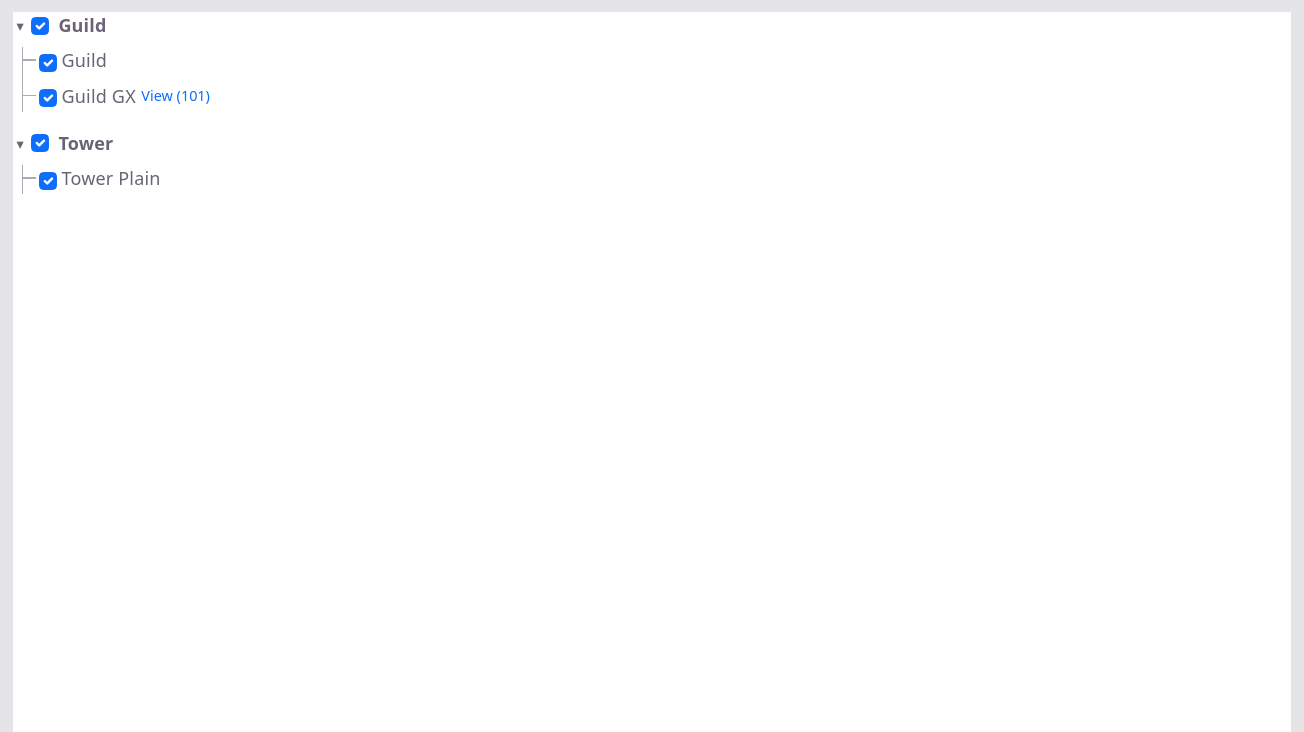
Test: CategoryFilter › itemsByCategory › shows a plain "N more" note with no table link, even past the cap
Click the button "View (101)". click: (176, 96)
box: [140,84,211,108]
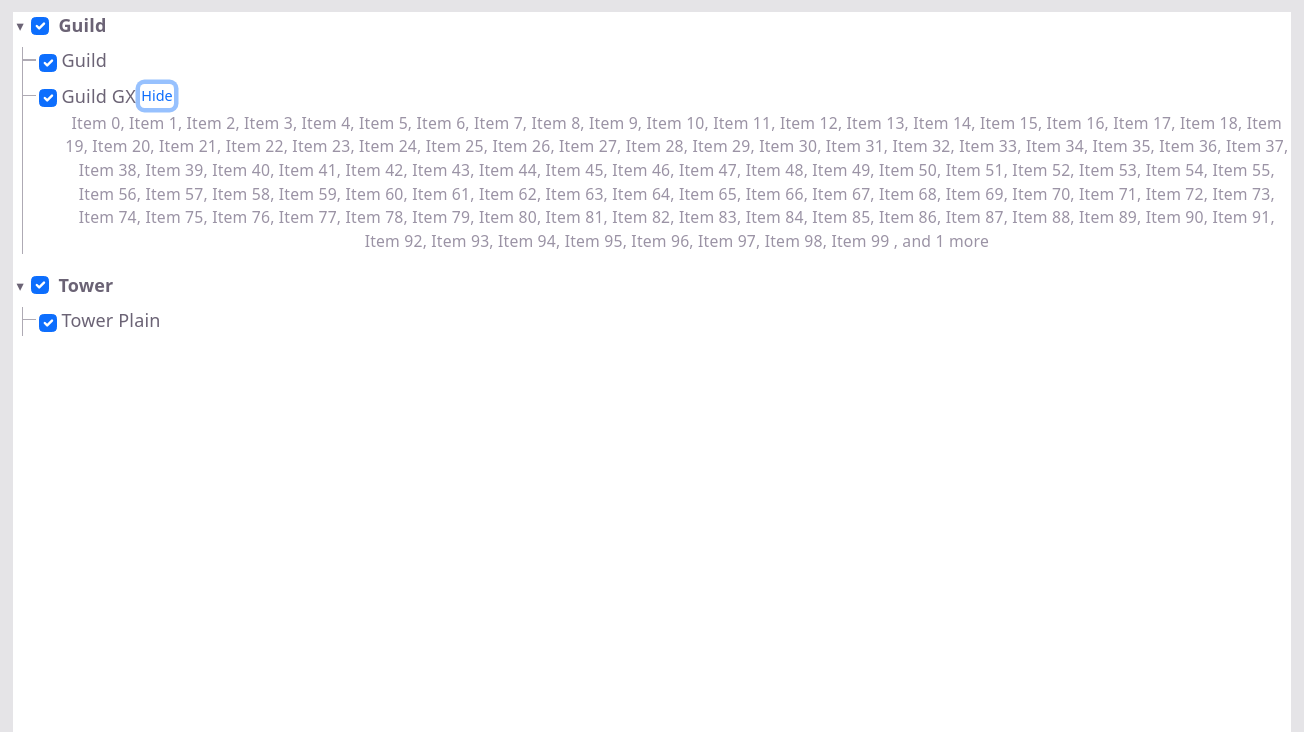
Now the text ", and 1 more" is shown, box [63,112,1291,254]
